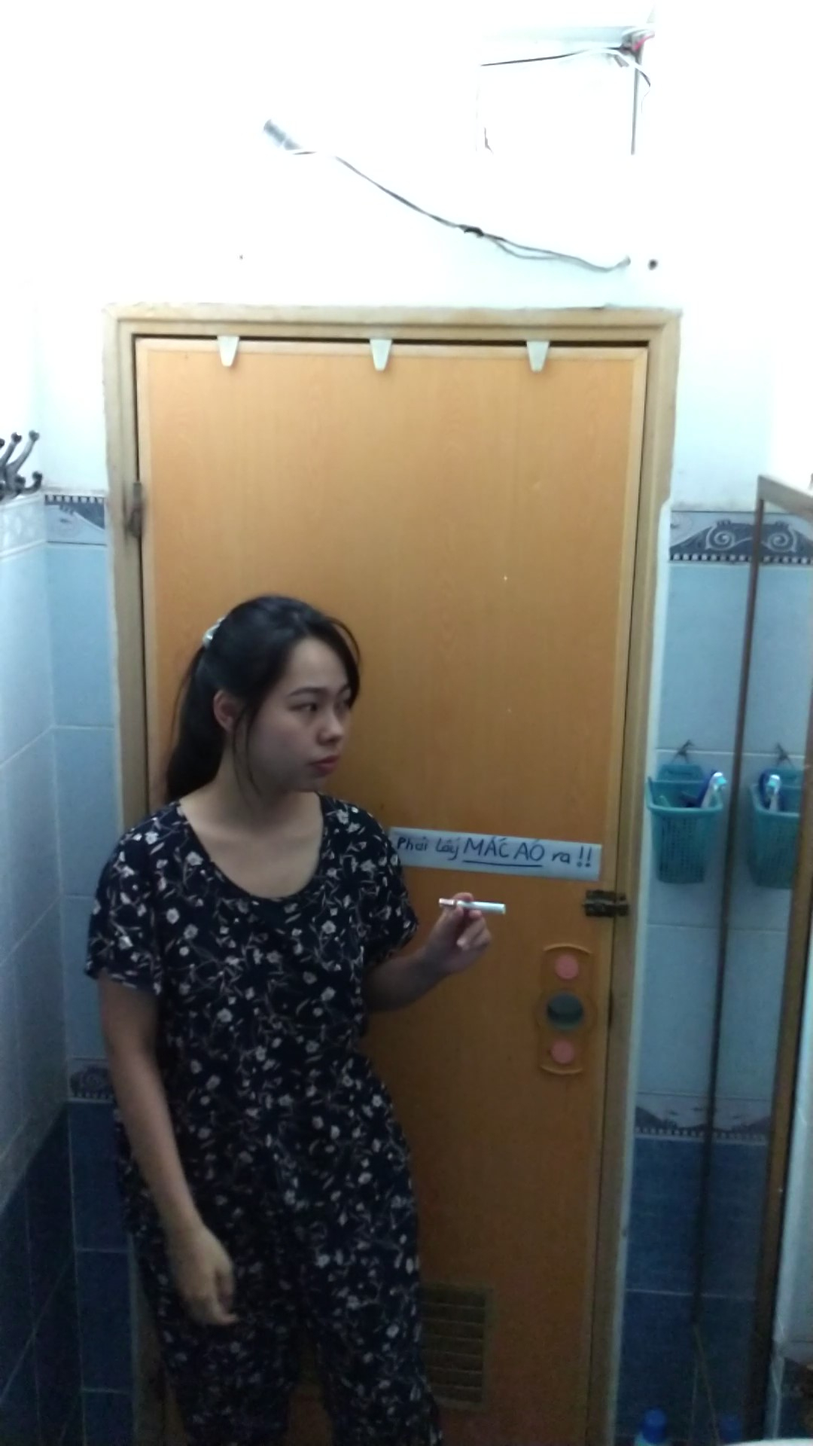cigarette: (464, 897, 511, 917)
person: (75, 590, 501, 1446)
